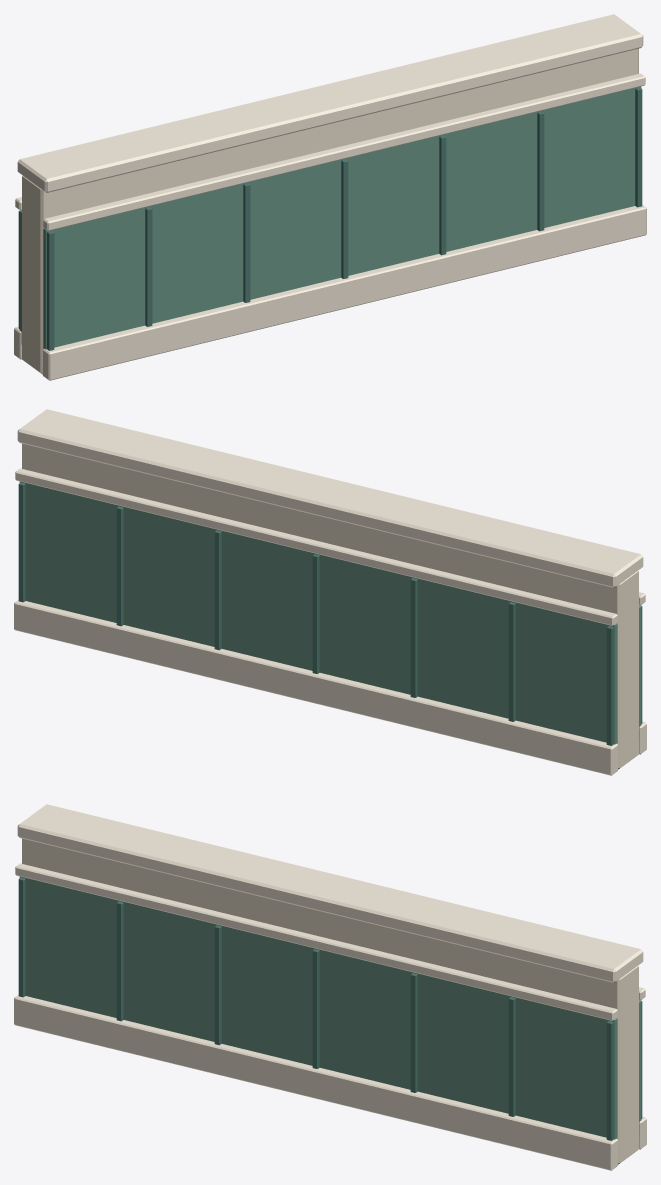
Rendered from bedroom-panel-wall.glb.
3 views of the same model, one above another, from view 1: azimuth 30°, elevation 25°; view 2: azimuth 150°, elevation 25°; view 3: azimuth 330°, elevation 25° (orthographic).
Parts seen in each view (by area): view 1: bedroom-panel-wall / Sea glass upholstery.003, bedroom-panel-wall / Warm linen.004, bedroom-panel-wall / Cream plaster.001, bedroom-panel-wall / Sea glass runner.003; view 2: bedroom-panel-wall / Sea glass upholstery.003, bedroom-panel-wall / Warm linen.004, bedroom-panel-wall / Cream plaster.001, bedroom-panel-wall / Sea glass runner.003; view 3: bedroom-panel-wall / Sea glass upholstery.003, bedroom-panel-wall / Warm linen.004, bedroom-panel-wall / Cream plaster.001, bedroom-panel-wall / Sea glass runner.003.
Boxes of the visible parts, box(x1,y1,x2,y2) form: bedroom-panel-wall / Sea glass upholstery.003: box(19, 86, 641, 349); bedroom-panel-wall / Warm linen.004: box(14, 14, 646, 380); bedroom-panel-wall / Cream plaster.001: box(22, 48, 638, 374); bedroom-panel-wall / Sea glass runner.003: box(18, 87, 642, 350); bedroom-panel-wall / Sea glass upholstery.003: box(19, 481, 641, 744); bedroom-panel-wall / Warm linen.004: box(14, 409, 646, 775); bedroom-panel-wall / Cream plaster.001: box(22, 443, 638, 769); bedroom-panel-wall / Sea glass runner.003: box(18, 482, 642, 745); bedroom-panel-wall / Sea glass upholstery.003: box(19, 876, 641, 1139); bedroom-panel-wall / Warm linen.004: box(14, 804, 646, 1170); bedroom-panel-wall / Cream plaster.001: box(22, 838, 638, 1164); bedroom-panel-wall / Sea glass runner.003: box(18, 877, 642, 1140).
Bounding box in the file's own units: 4 × 1.27 × 0.414.
